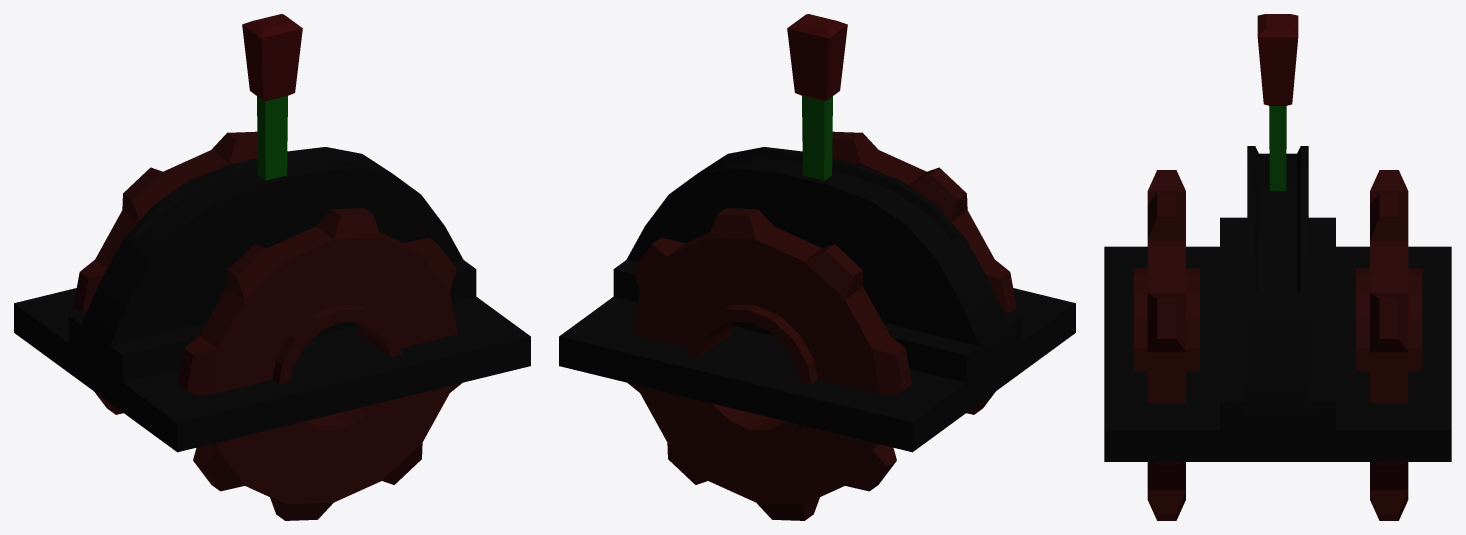
File: Levier.fbx
The picture shows the model from 3 angles, left to right: view 1: azimuth 30°, elevation 25°; view 2: azimuth 150°, elevation 25°; view 3: azimuth 270°, elevation 25°; orthographic projection. The views are drawn at different scales.
Parts seen in each view (by area): view 1: levier; view 2: levier; view 3: levier.
Part boxes in pixels (x1,y1,x2,y2): levier: [14, 14, 530, 520]; levier: [559, 14, 1075, 520]; levier: [1104, 14, 1451, 520].
Size of the model in its own units: 100 by 123 by 80.
